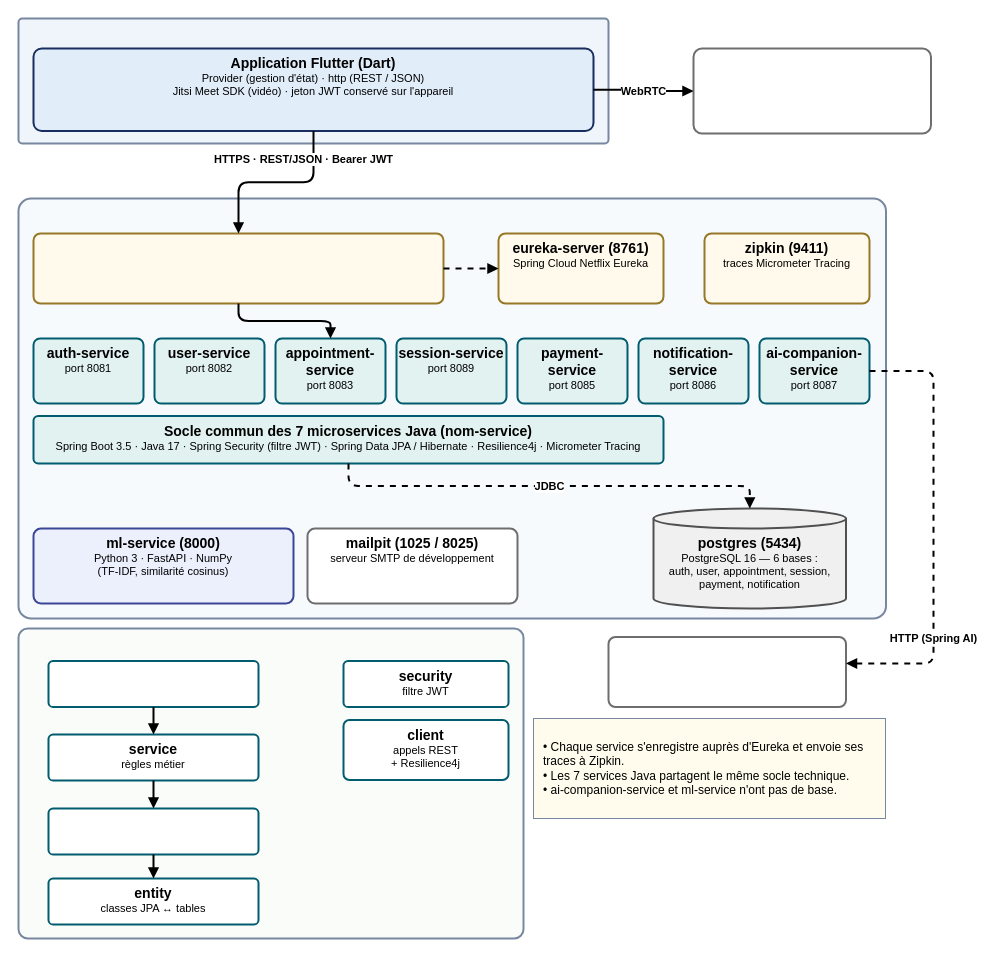
This 994x956 diagram has some shape labels left out. The shapes that lost their labels are listed below. From the top down, each one's box as (x1, y1, x2, y2) in pixels, then its label:
(17, 17, 609, 144): Smartphone (iOS / Android)
(692, 47, 932, 134): Serveur Jitsi public meet.ffmuc.net salons vidéo (WebRTC)
(32, 232, 444, 304): api-gateway (8080) Spring Cloud Gateway — route vers le bon service
(17, 197, 886, 619): Serveur — Docker Compose
(47, 660, 259, 708): controller points d'accès REST, DTO
(607, 636, 846, 708): Ollama sur la machine hôte (11434) modèle qwen2.5:3b, appelé par Spring AI
(17, 627, 524, 939): Organisation interne d'un service Spring Boot
(47, 807, 259, 855): repository Spring Data JPA
